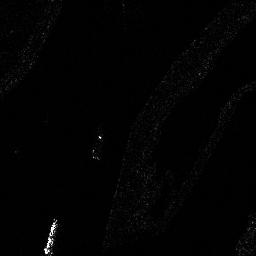ship: (42, 218, 60, 256)
